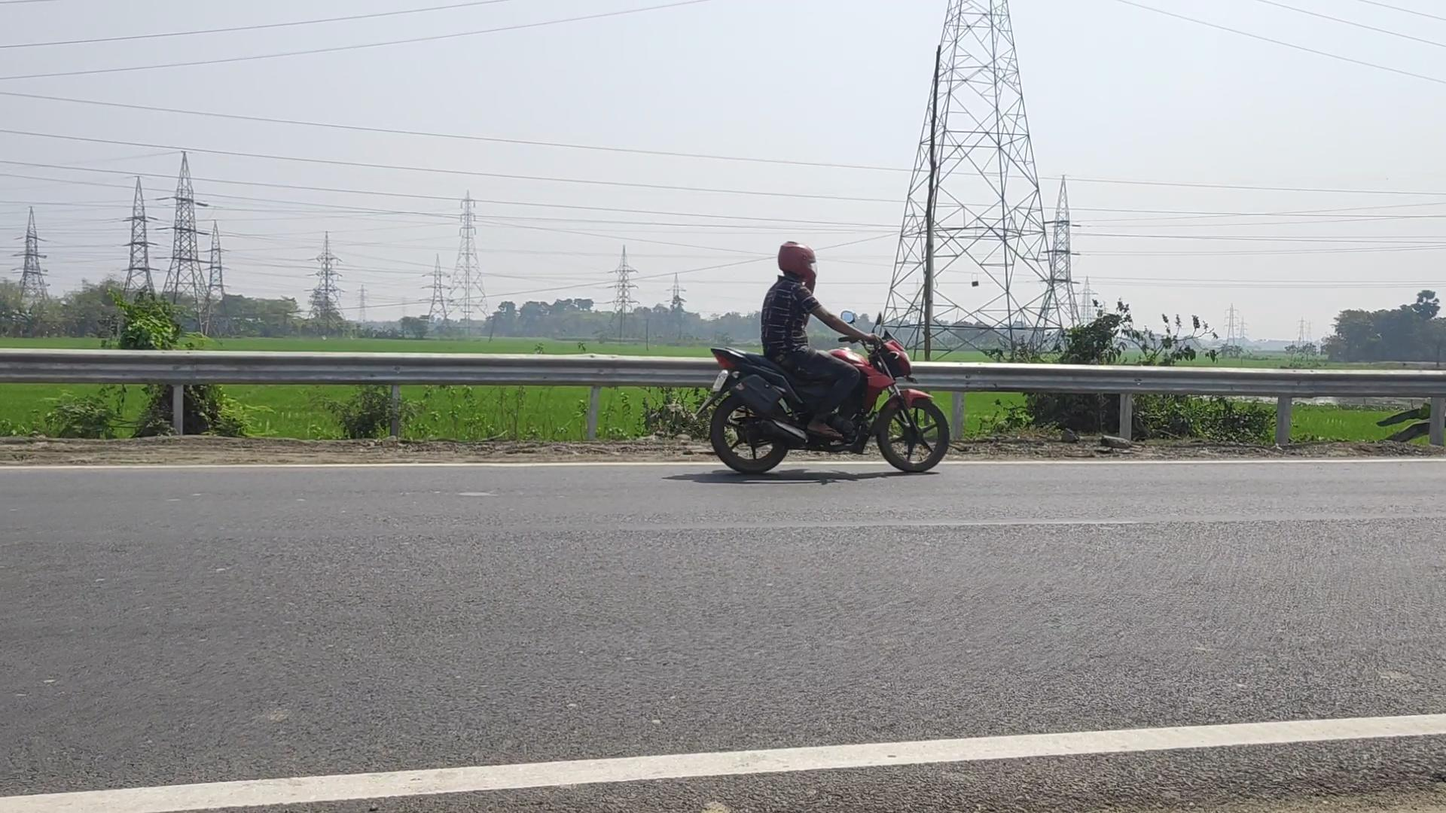bike: (700, 239, 950, 478)
